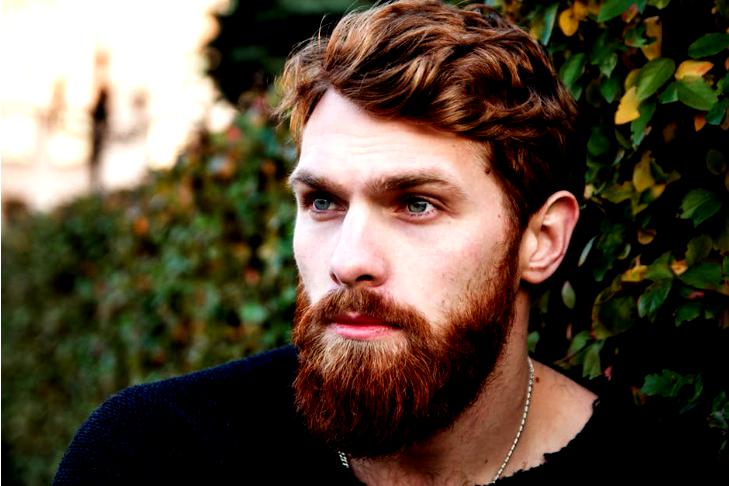face: (285, 95, 498, 407)
